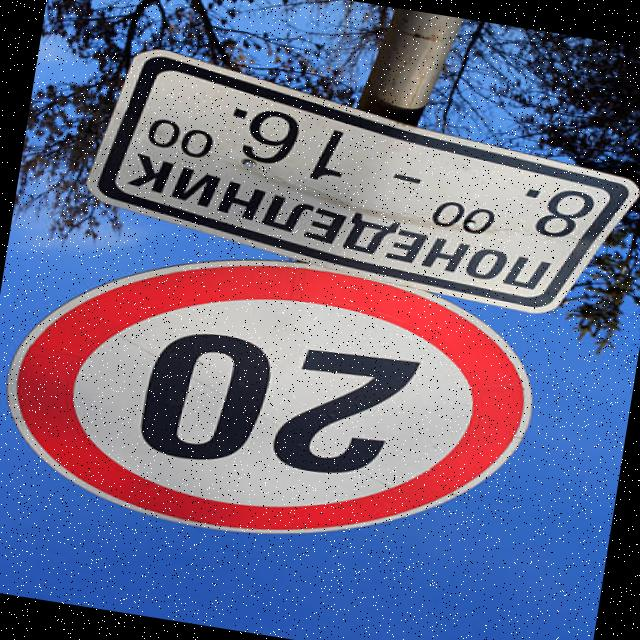speed_limit_20: (0, 211, 559, 594)
